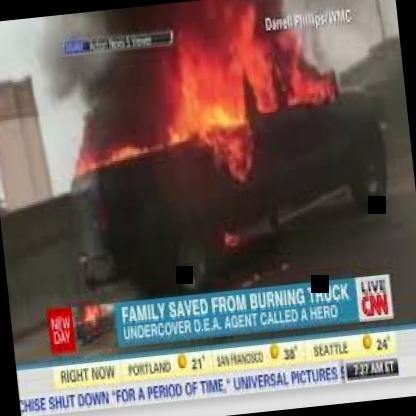fire: (103, 32, 352, 296)
